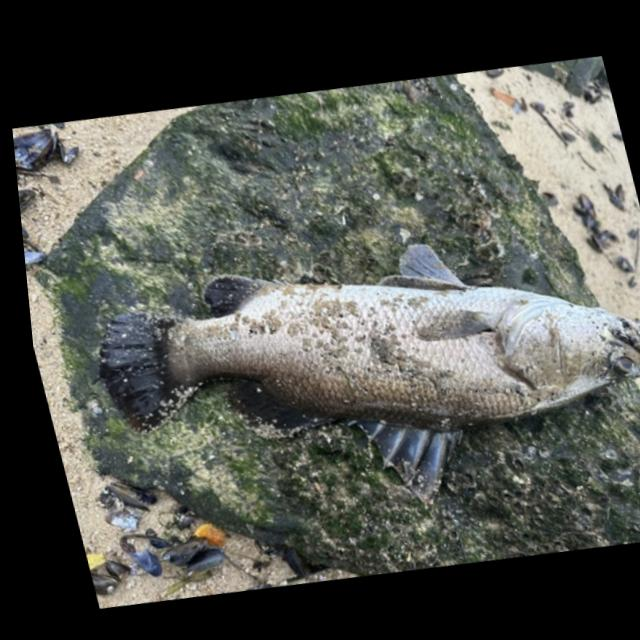Seabass: (68, 193, 640, 555)
